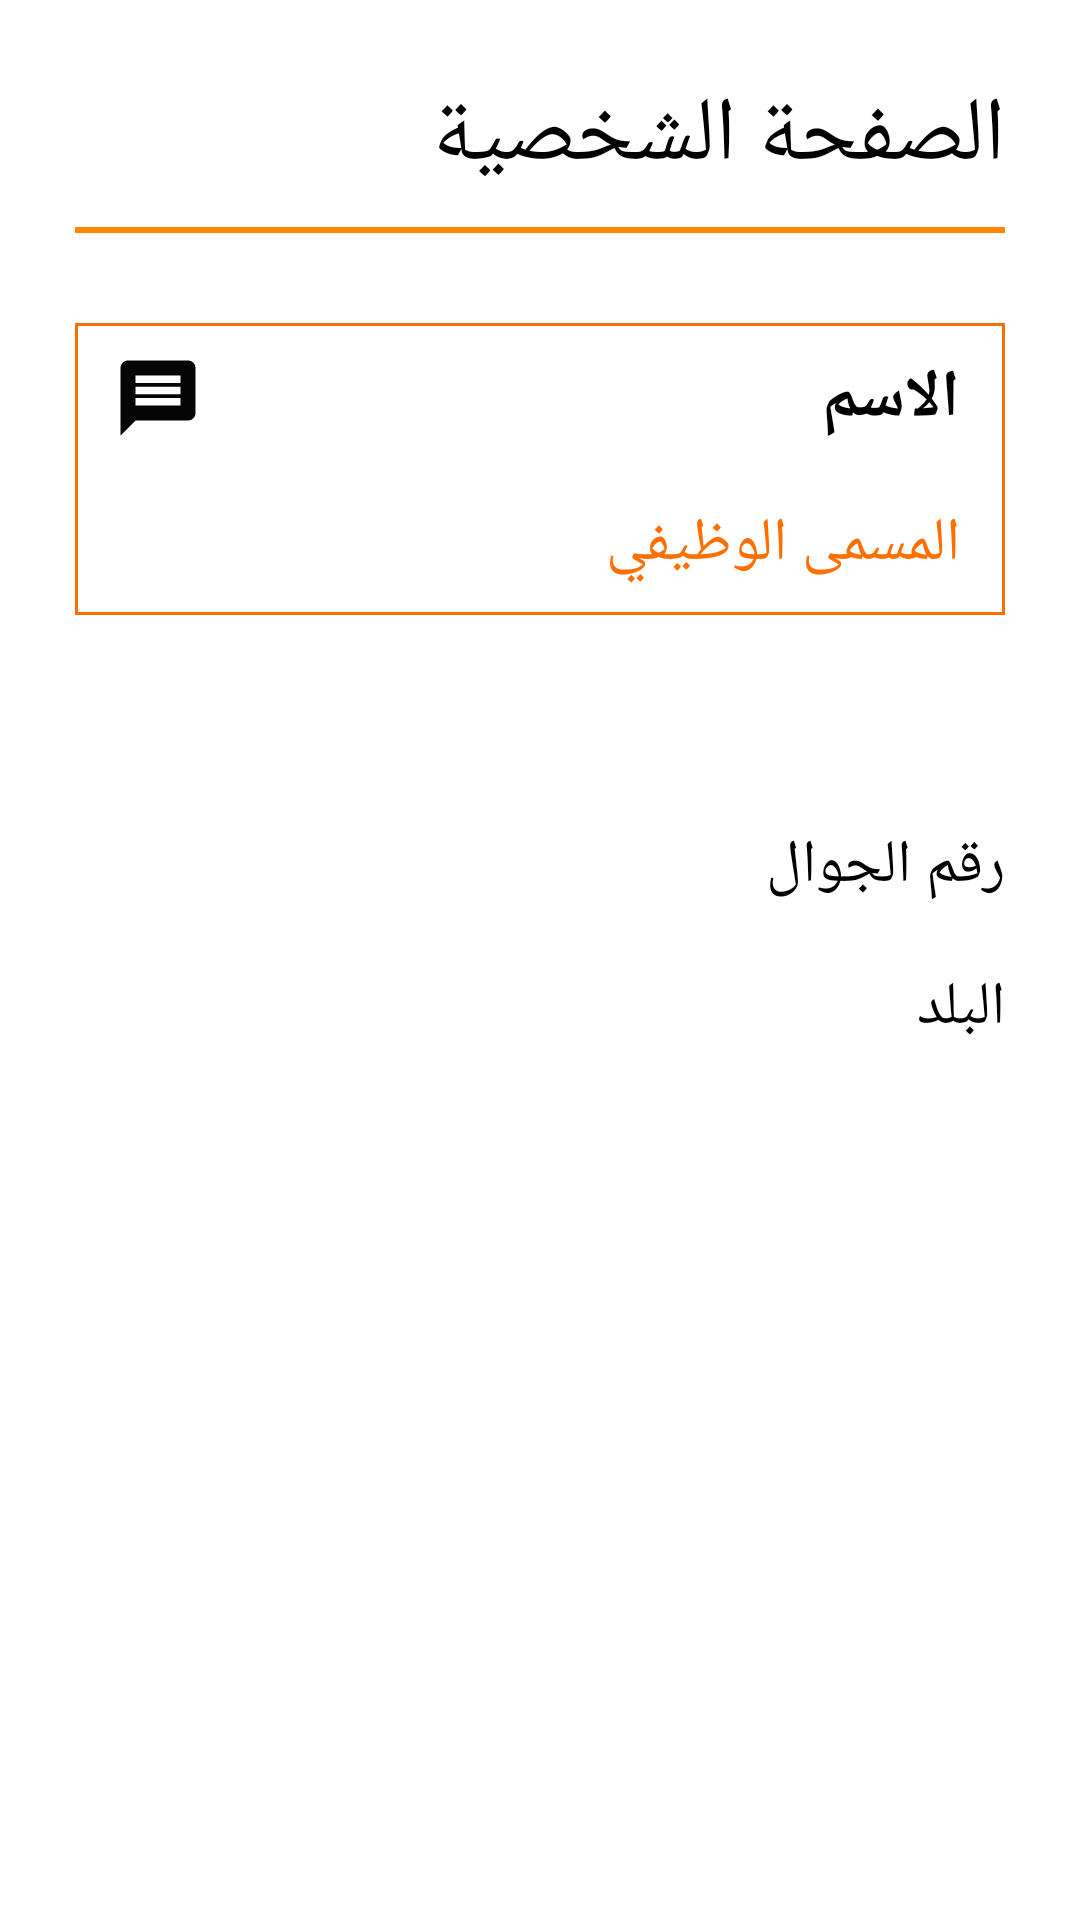

Named icons in this screenshot (1080px x 1920px) and their bounding boxes, [x1, y1, x2, y2]:
message: [120, 360, 196, 436]
